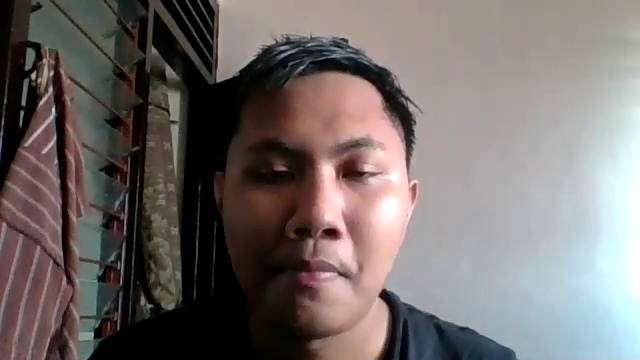Distracted: (198, 99, 424, 326)
